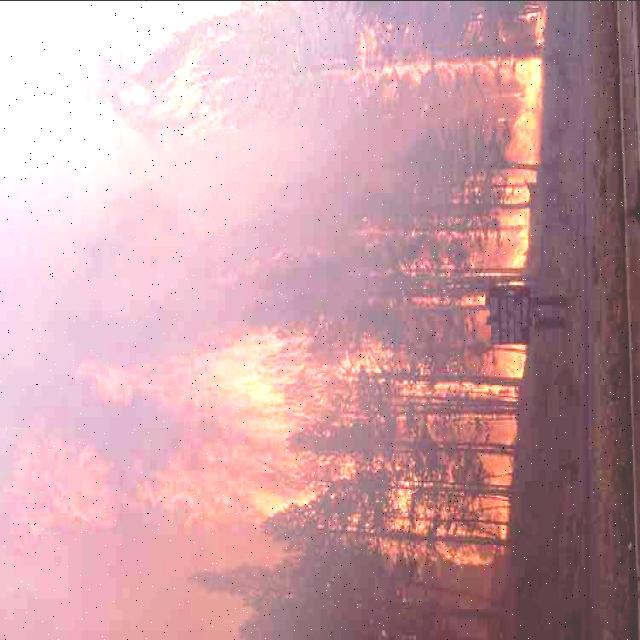api: (39, 356, 378, 534), (463, 23, 537, 569), (124, 36, 223, 132)
asap: (3, 140, 353, 298)
